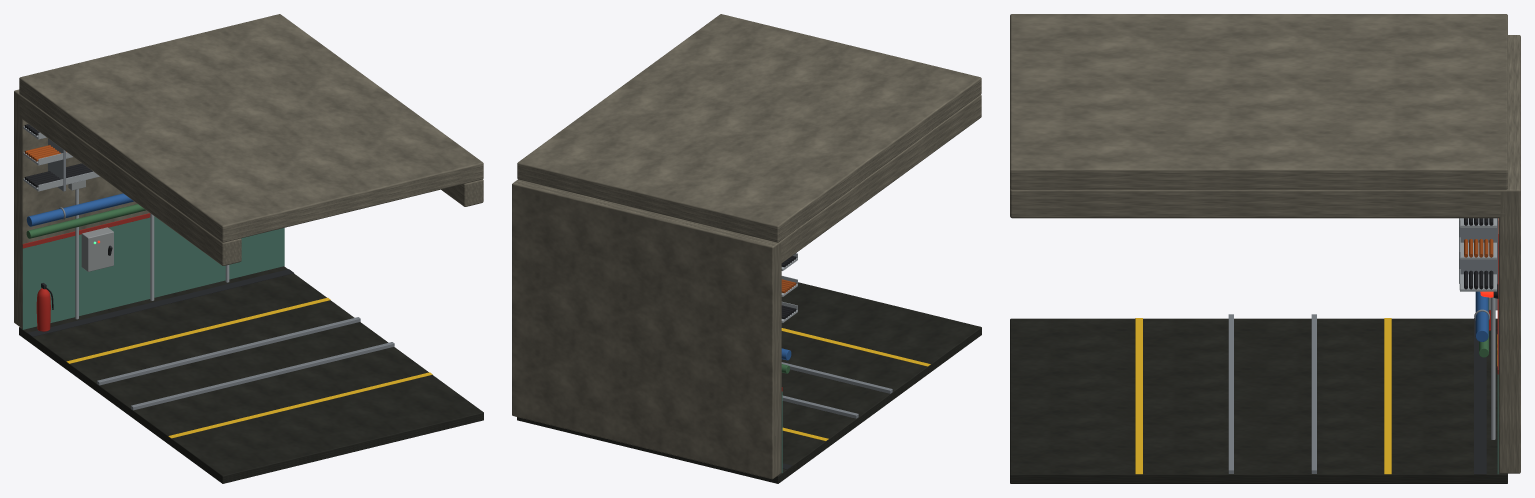
The model's file is accel_tunnel.glb.
3 views of the same model, side by side, from view 1: azimuth 30°, elevation 25°; view 2: azimuth 150°, elevation 25°; view 3: azimuth 270°, elevation 25° (orthographic). The views are drawn at different scales.
Bounding box in the file's own units: 4 × 3.77 × 5.54.
19 materials, 2 textured.
